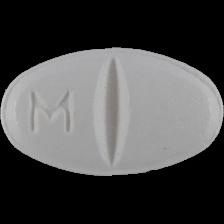0904-6322: (0, 0, 224, 224)
